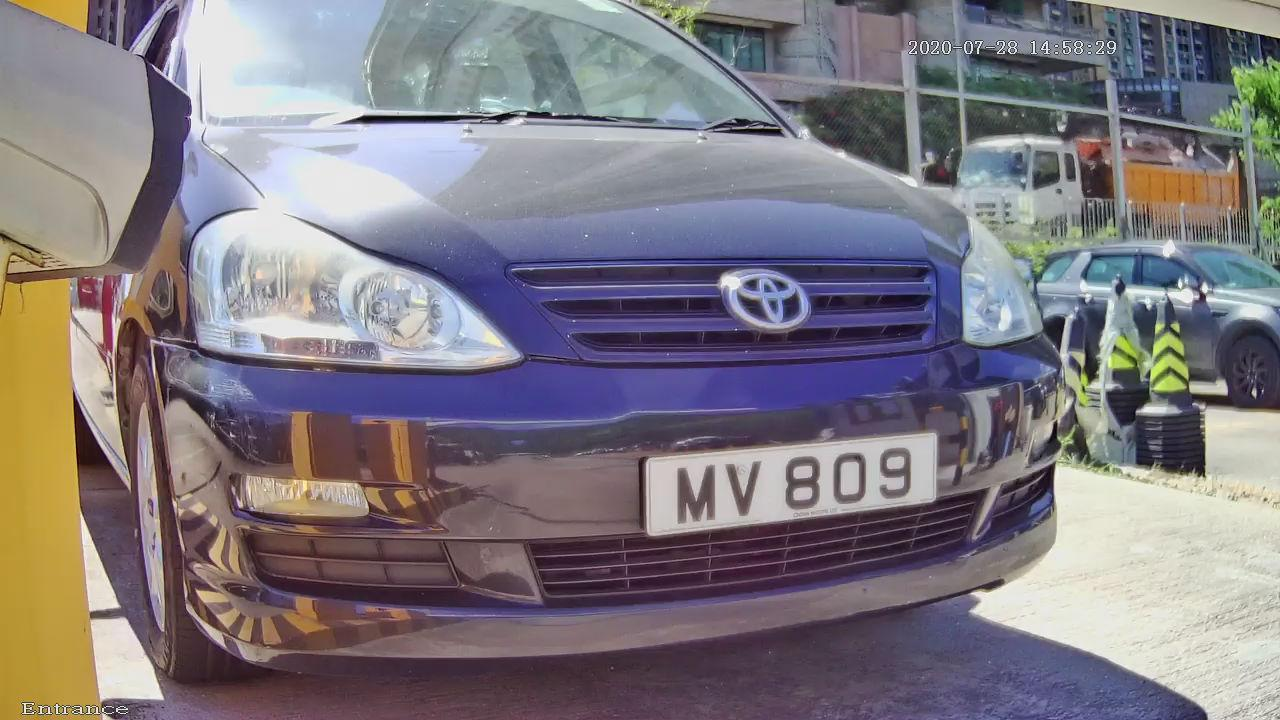privatecar: (52, 17, 1183, 704)
